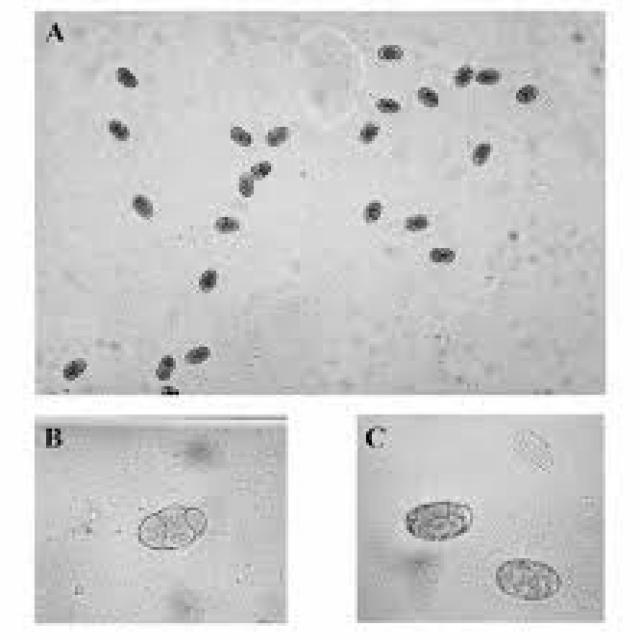Ancylostoma Spp: (125, 489, 218, 565), (490, 548, 571, 614), (401, 491, 473, 547), (464, 132, 502, 172), (422, 237, 466, 270), (240, 155, 286, 186), (52, 349, 89, 384), (360, 193, 395, 230), (99, 112, 137, 146), (110, 55, 144, 92), (398, 203, 435, 237), (369, 35, 406, 69), (411, 79, 448, 113), (126, 186, 157, 226), (258, 121, 296, 152), (192, 264, 226, 298), (223, 119, 258, 152), (369, 89, 404, 122), (446, 55, 477, 92), (506, 80, 549, 106), (210, 210, 245, 241), (353, 115, 388, 146), (151, 354, 183, 382), (471, 65, 509, 87), (232, 175, 261, 203), (184, 341, 213, 367)
